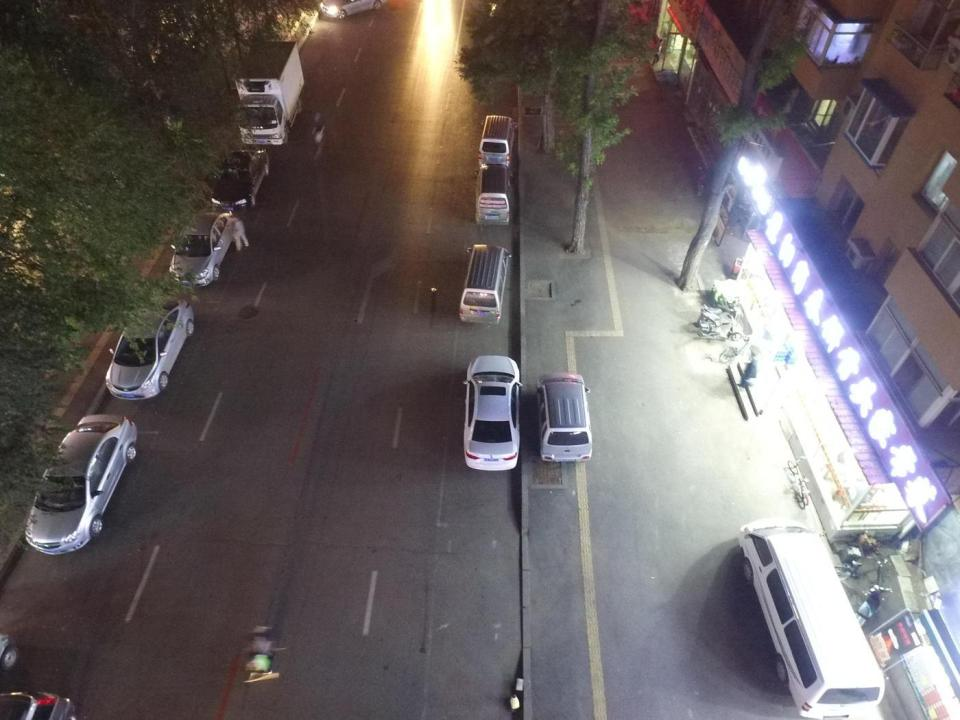car: (24, 413, 137, 556), (104, 294, 194, 401), (462, 354, 521, 472), (169, 206, 235, 288), (535, 372, 592, 464), (211, 146, 270, 212), (0, 689, 77, 720), (318, 0, 388, 21)
truck: (234, 39, 304, 146)
van: (741, 516, 886, 719), (459, 243, 509, 325), (474, 164, 511, 226), (477, 114, 516, 168)
